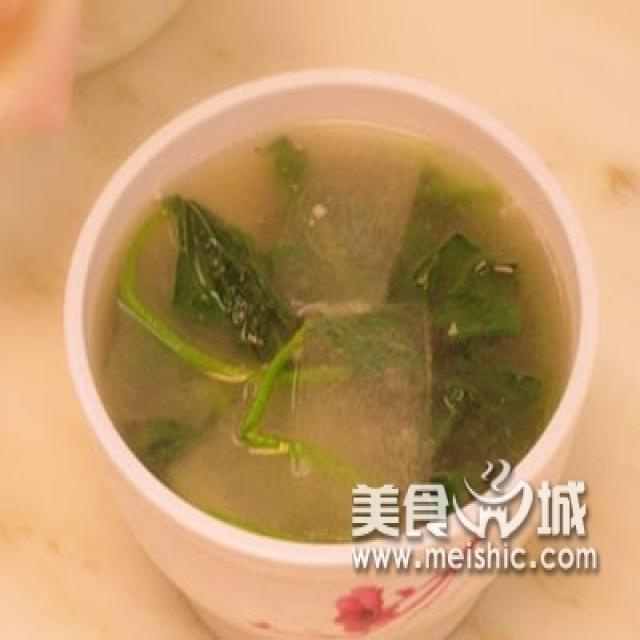汤锅炖物: (85, 89, 578, 591)
